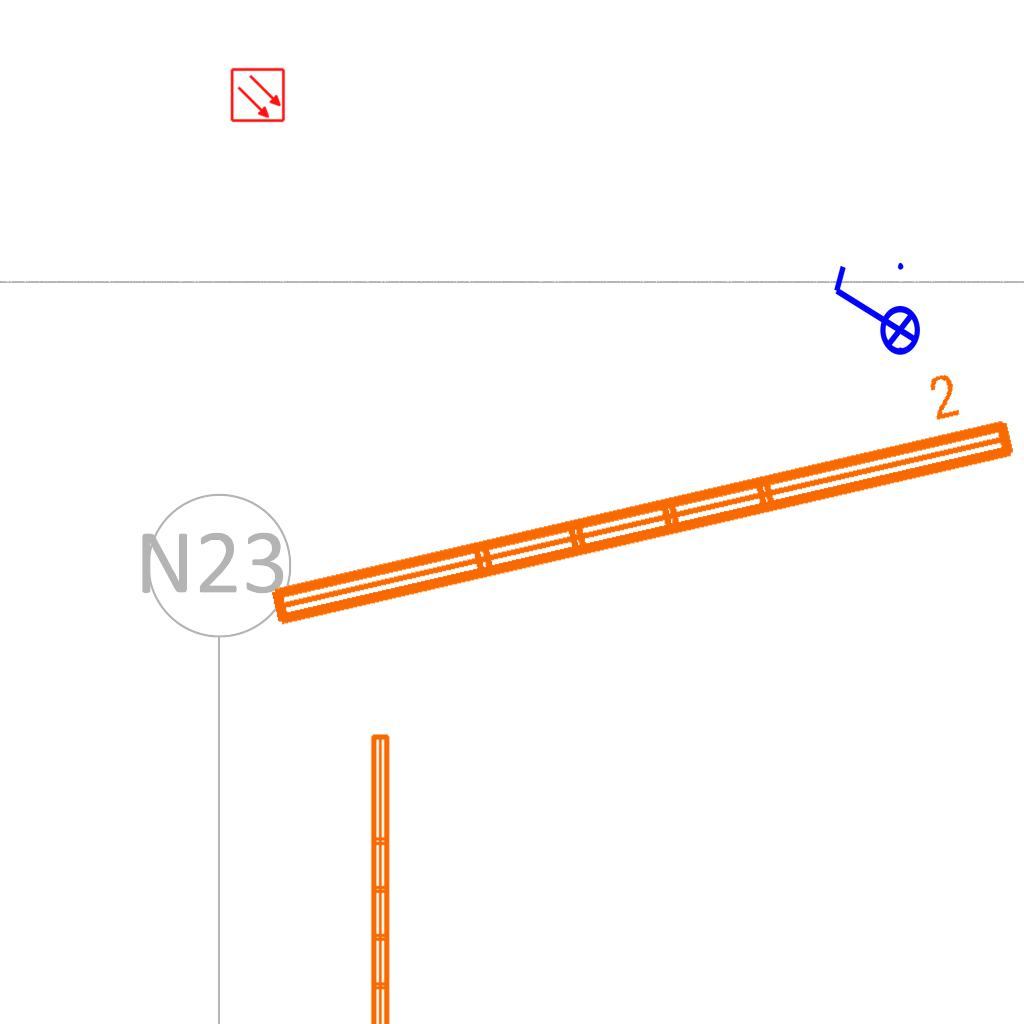Ambulanz_Pendelleuchte_LED: (246, 356, 1024, 640), (365, 729, 421, 1024)
Ausschalter_beleuchtet: (826, 257, 922, 369)
RMO_Rauchmelder_optischer: (230, 67, 286, 123)
